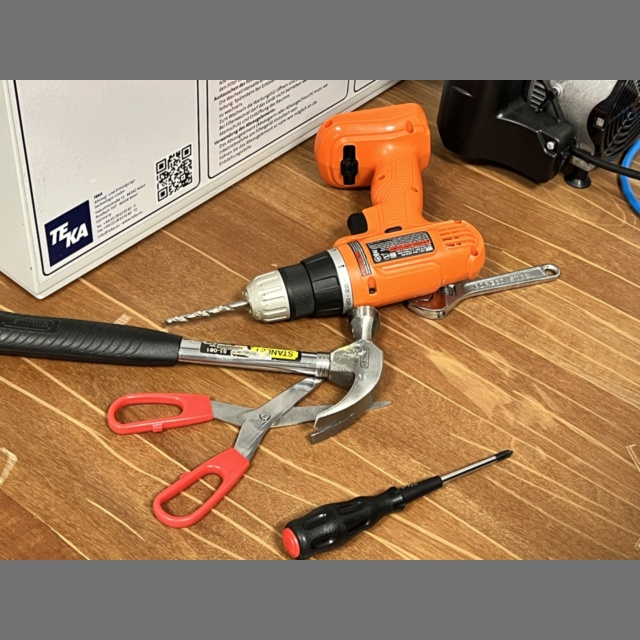drill: (163, 102, 486, 320)
scissor: (107, 377, 364, 528)
screwdriver: (283, 450, 512, 560)
